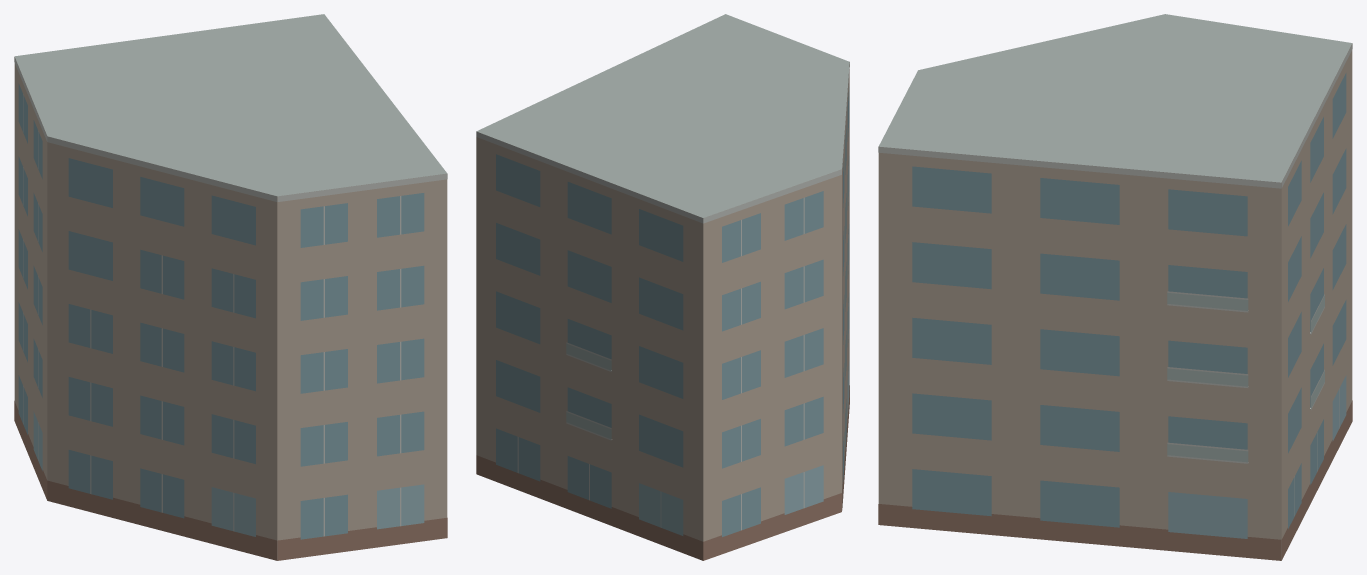
File: survey-upis-32849803.glb
3 renders of one model, left to right at view 1: azimuth 30°, elevation 25°; view 2: azimuth 150°, elevation 25°; view 3: azimuth 270°, elevation 25°, orthographic. The views are drawn at different scales.
Parts seen in each view (by area): view 1: survey-upis-32849803.tmp; view 2: survey-upis-32849803.tmp; view 3: survey-upis-32849803.tmp.
Part boxes in pixels (left/top/right/bottom): survey-upis-32849803.tmp: left=14, top=14, right=447, bottom=560; survey-upis-32849803.tmp: left=476, top=14, right=849, bottom=560; survey-upis-32849803.tmp: left=878, top=14, right=1352, bottom=560.
Bounding box in the file's own units: 14.59 × 15.25 × 17.33.
